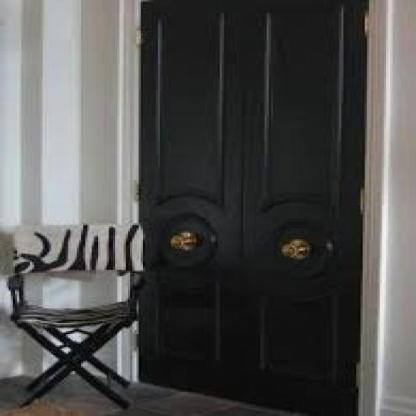Chair: (4, 216, 147, 416)
